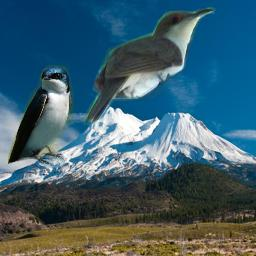Cuckoo: (83, 7, 216, 126)
Swallow: (8, 65, 74, 168)
